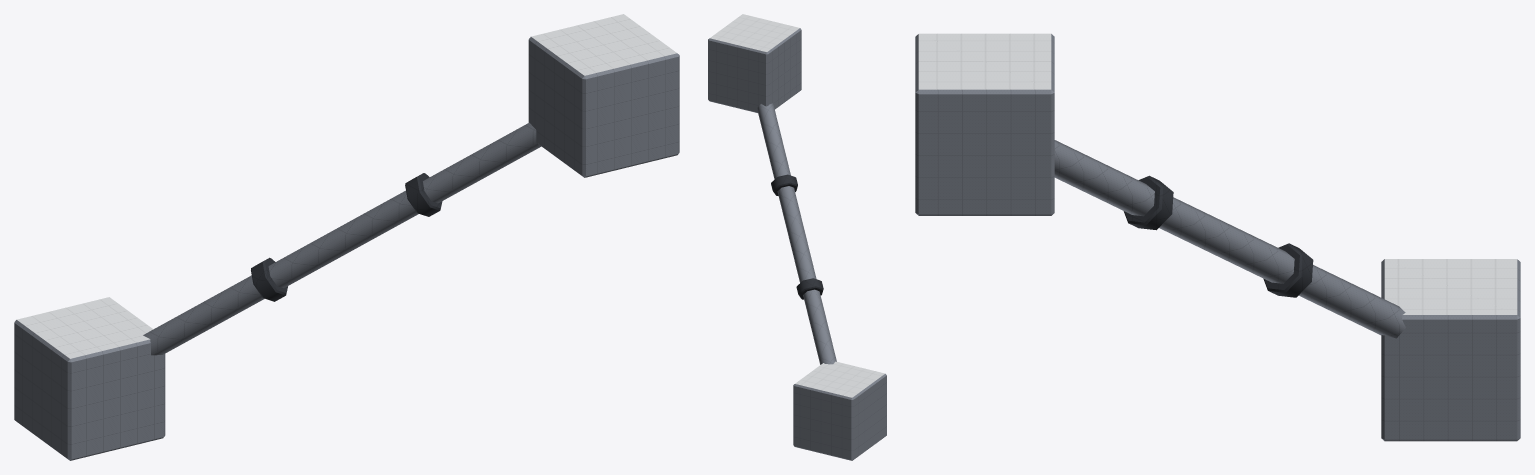
Rendered from R4C_ROD_DIAG_3D_LOD1.glb.
3 renders of one model, left to right at view 1: azimuth 30°, elevation 25°; view 2: azimuth 150°, elevation 25°; view 3: azimuth 270°, elevation 25°, orthographic. The views are drawn at different scales.
Parts seen in each view (by area): view 1: R4C_ROD_DIAG_3D_LOD1; view 2: R4C_ROD_DIAG_3D_LOD1; view 3: R4C_ROD_DIAG_3D_LOD1.
Boxes of the visible parts, left/top/right/bottom form: R4C_ROD_DIAG_3D_LOD1: left=14, top=14, right=679, bottom=460; R4C_ROD_DIAG_3D_LOD1: left=708, top=14, right=886, bottom=460; R4C_ROD_DIAG_3D_LOD1: left=915, top=33, right=1520, bottom=441.
Size of the model in its own units: 1.62 by 1.62 by 1.62.
3 materials, 3 textured.
